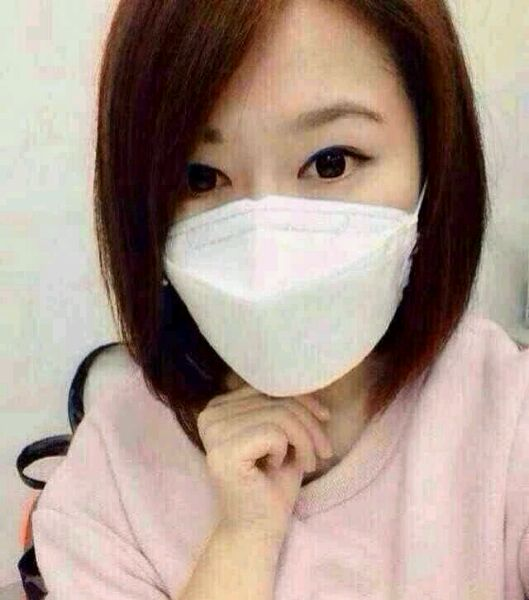face_mask: (161, 2, 413, 389)
